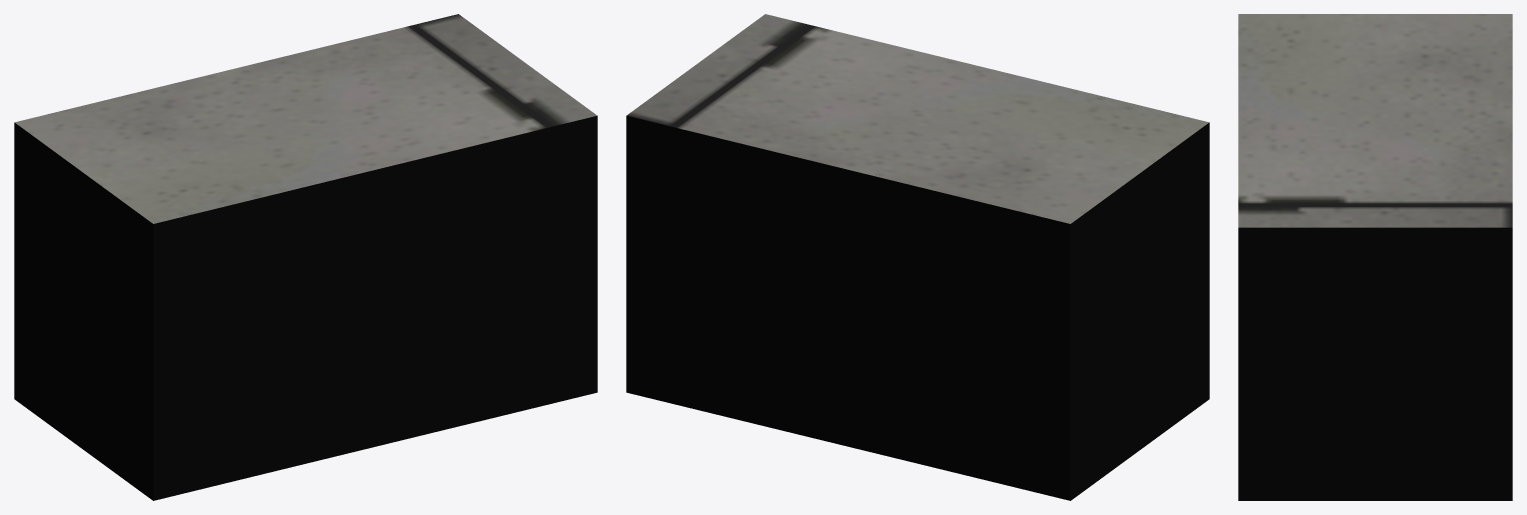
Rendered from ammo_box_12ga.fbx.
3 renders of one model, left to right at view 1: azimuth 30°, elevation 25°; view 2: azimuth 150°, elevation 25°; view 3: azimuth 270°, elevation 25°, orthographic.
Parts seen in each view (by area): view 1: ammo_box_12ga, ammo_box_12ga_lid; view 2: ammo_box_12ga, ammo_box_12ga_lid; view 3: ammo_box_12ga, ammo_box_12ga_lid.
Boxes of the visible parts, left/top/right/bottom form: ammo_box_12ga: left=14, top=121, right=597, bottom=500; ammo_box_12ga_lid: left=14, top=14, right=597, bottom=229; ammo_box_12ga: left=626, top=121, right=1209, bottom=500; ammo_box_12ga_lid: left=626, top=14, right=1209, bottom=229; ammo_box_12ga: left=1238, top=233, right=1512, bottom=500; ammo_box_12ga_lid: left=1238, top=14, right=1512, bottom=233.
Size of the model in its own units: 0.12 by 0.0715 by 0.065.
